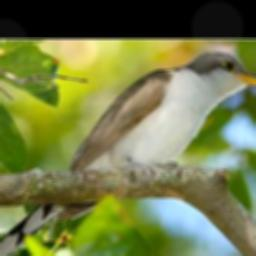Cuckoo: (0, 48, 256, 256)
